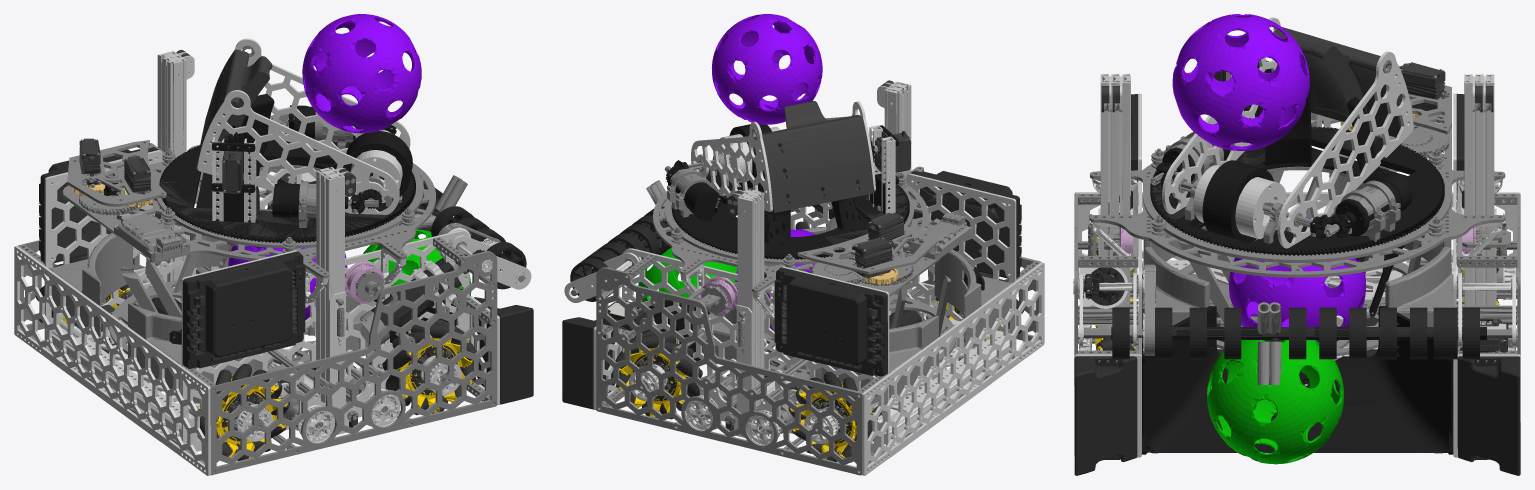
The model's file is cupid.glb.
The picture shows the model from 3 angles, left to right: view 1: azimuth 30°, elevation 25°; view 2: azimuth 150°, elevation 25°; view 3: azimuth 270°, elevation 25°; orthographic projection. The views are drawn at different scales.
Visible parts, largest first — view 1: Body1, Body1_1527; view 2: Body1, Body1_1527; view 3: Body1_1527, Body1, Body1_1268.
Boxes of the visible parts, <box> form: Body1: <box>14,38,531,475</box>; Body1_1527: <box>35,14,533,460</box>; Body1: <box>564,81,1044,475</box>; Body1_1527: <box>562,14,1024,461</box>; Body1_1527: <box>1074,14,1520,475</box>; Body1: <box>1073,17,1520,457</box>; Body1_1268: <box>1111,327,1486,339</box>.
Bounding box in the file's own units: 0.4211 × 0.4169 × 0.4137.
3 materials, 3 textured.
